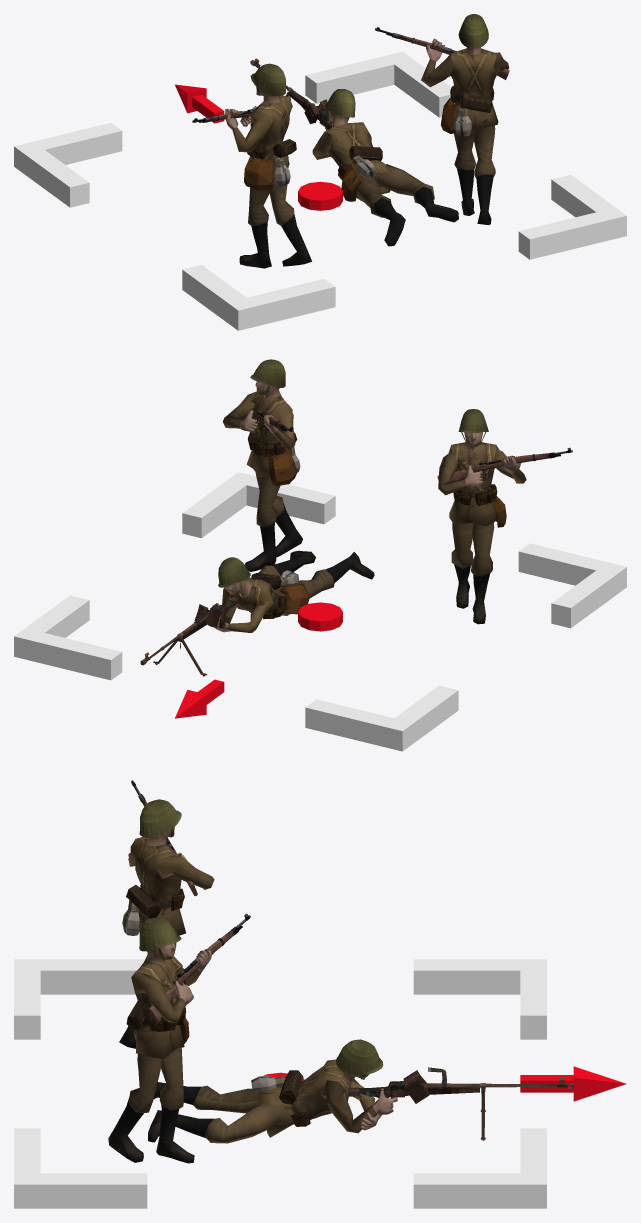
File: cf_sov_at.obj
3 views of the same model, one above another, from view 1: azimuth 30°, elevation 25°; view 2: azimuth 150°, elevation 25°; view 3: azimuth 270°, elevation 25° (orthographic). The views are drawn at different scales.
Parts seen in each view (by area): view 1: i_frame_Cube.002, german_rigged, german_rigged.001, rigged_belt.002, pointer_Cylinder, arrow_Cube; view 2: i_frame_Cube.002, german_rigged.001, german_rigged, rigged_belt.002, pointer_Cylinder, arrow_Cube; view 3: i_frame_Cube.002, rigged_belt.002, german_rigged, german_rigged.001, arrow_Cube.
Boxes of the visible parts, <box> form: i_frame_Cube.002: <box>14,51,626,330</box>; german_rigged: <box>375,14,509,224</box>; german_rigged.001: <box>192,63,311,268</box>; rigged_belt.002: <box>250,58,458,246</box>; pointer_Cylinder: <box>298,181,342,210</box>; arrow_Cube: <box>175,84,224,123</box>; i_frame_Cube.002: <box>14,472,626,751</box>; german_rigged.001: <box>437,409,572,624</box>; german_rigged: <box>223,359,302,571</box>; rigged_belt.002: <box>140,550,374,676</box>; pointer_Cylinder: <box>298,602,342,631</box>; arrow_Cube: <box>175,679,224,718</box>; i_frame_Cube.002: <box>14,959,546,1208</box>; rigged_belt.002: <box>148,1039,573,1143</box>; german_rigged: <box>108,913,250,1163</box>; german_rigged.001: <box>119,780,214,1048</box>; arrow_Cube: <box>520,1066,626,1101</box>.
Bounding box in the file's own units: 4 × 2.01 × 4.6.
Materials: 2 (2 with a texture image).
